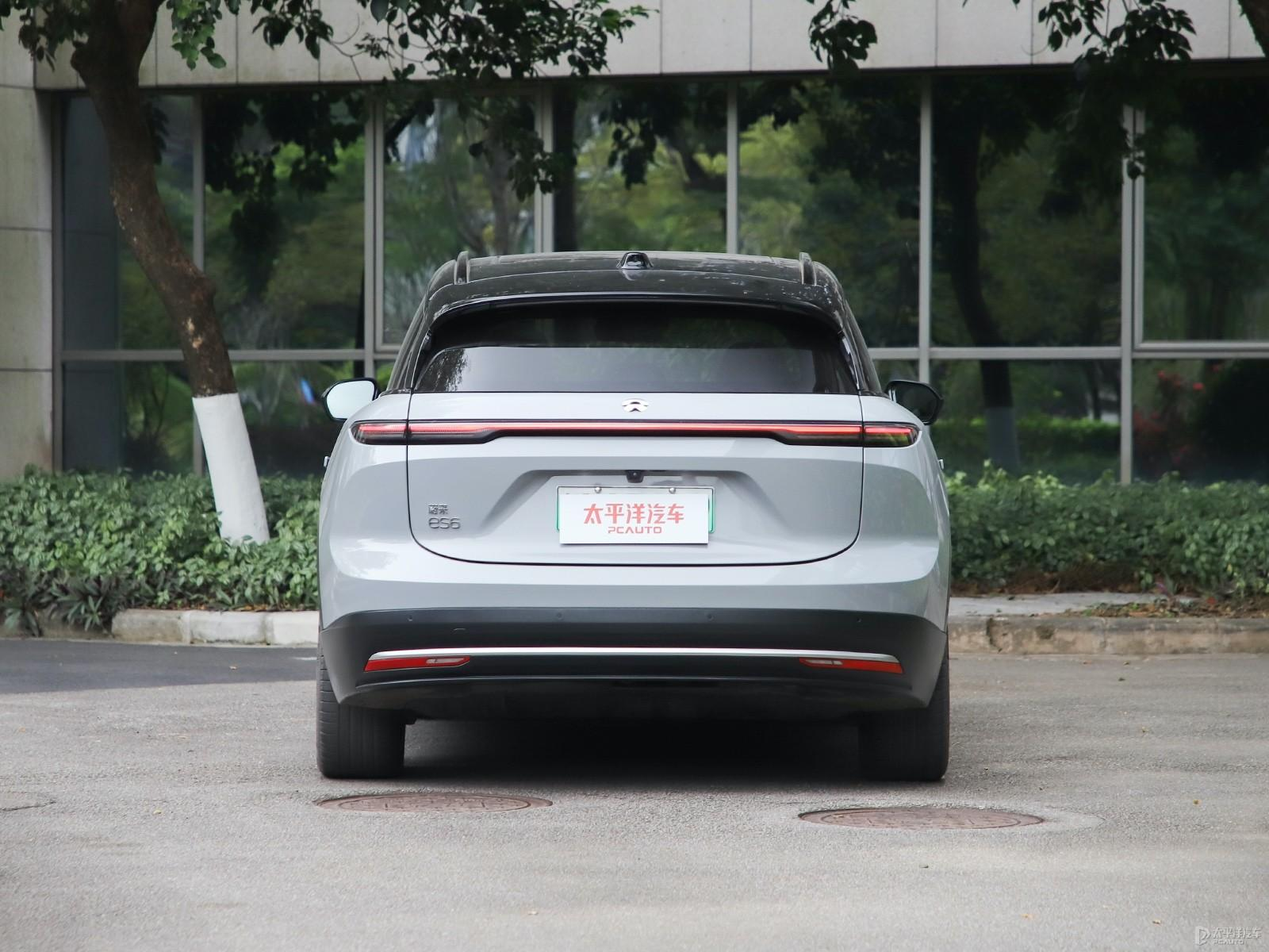NIO: (620, 397, 650, 415)
